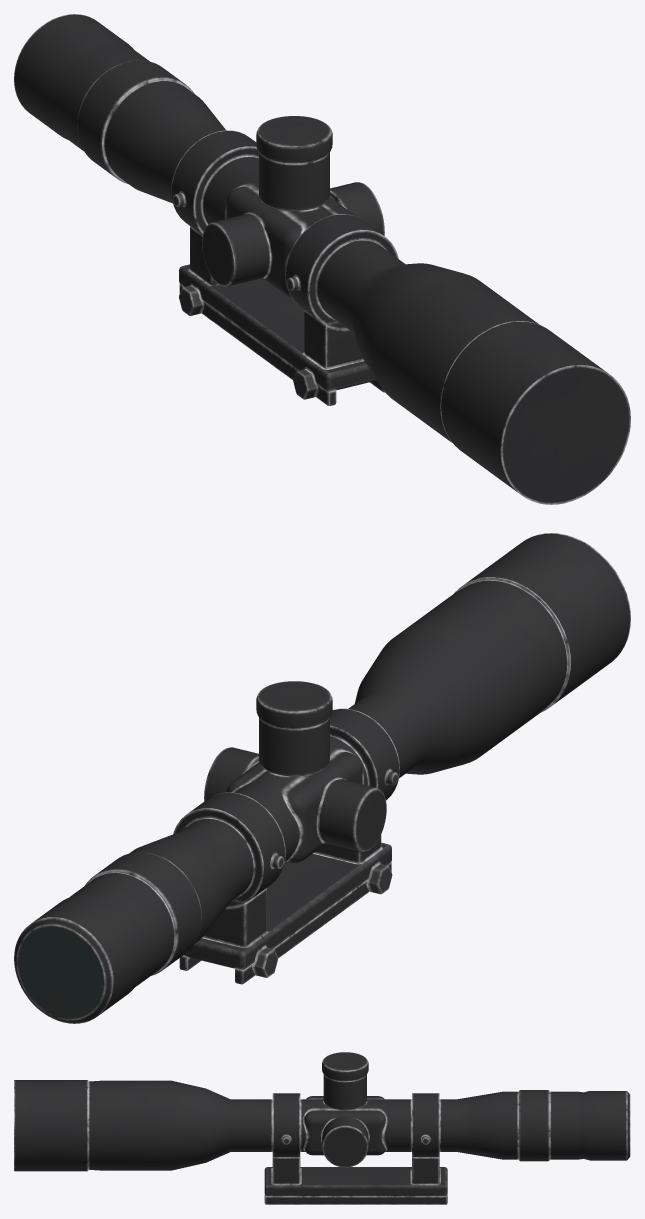
Rendered from scope8x.glb.
3 renders of one model, top to bottom at view 1: azimuth 30°, elevation 25°; view 2: azimuth 150°, elevation 25°; view 3: azimuth 270°, elevation 25°, orthographic. The views are drawn at different scales.
Parts seen in each view (by area): view 1: body; view 2: body, lens_pip; view 3: body.
Boxes of the visible parts, left/top/right/bottom form: body: left=14, top=14, right=630, bottom=504; body: left=14, top=533, right=630, bottom=1023; lens_pip: left=17, top=927, right=102, bottom=1018; body: left=14, top=1052, right=630, bottom=1204.
Bounding box in the file's own units: 0.068 × 0.0962 × 0.3985.
3 materials, 1 textured.
